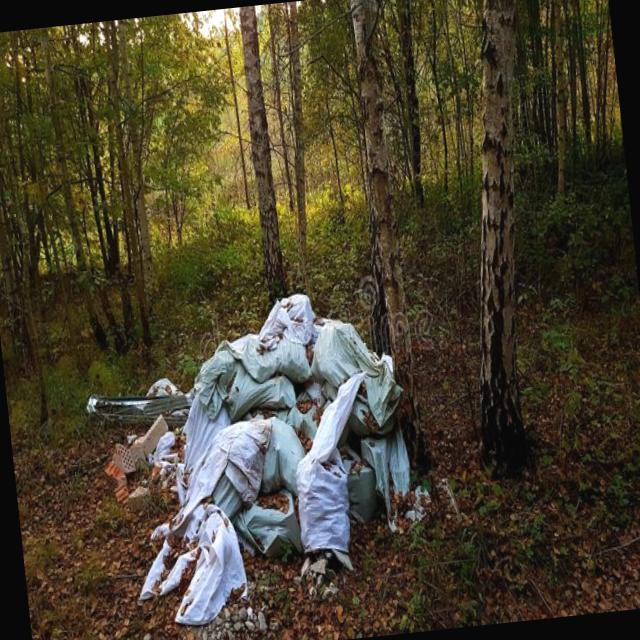garbage: (72, 278, 449, 640)
